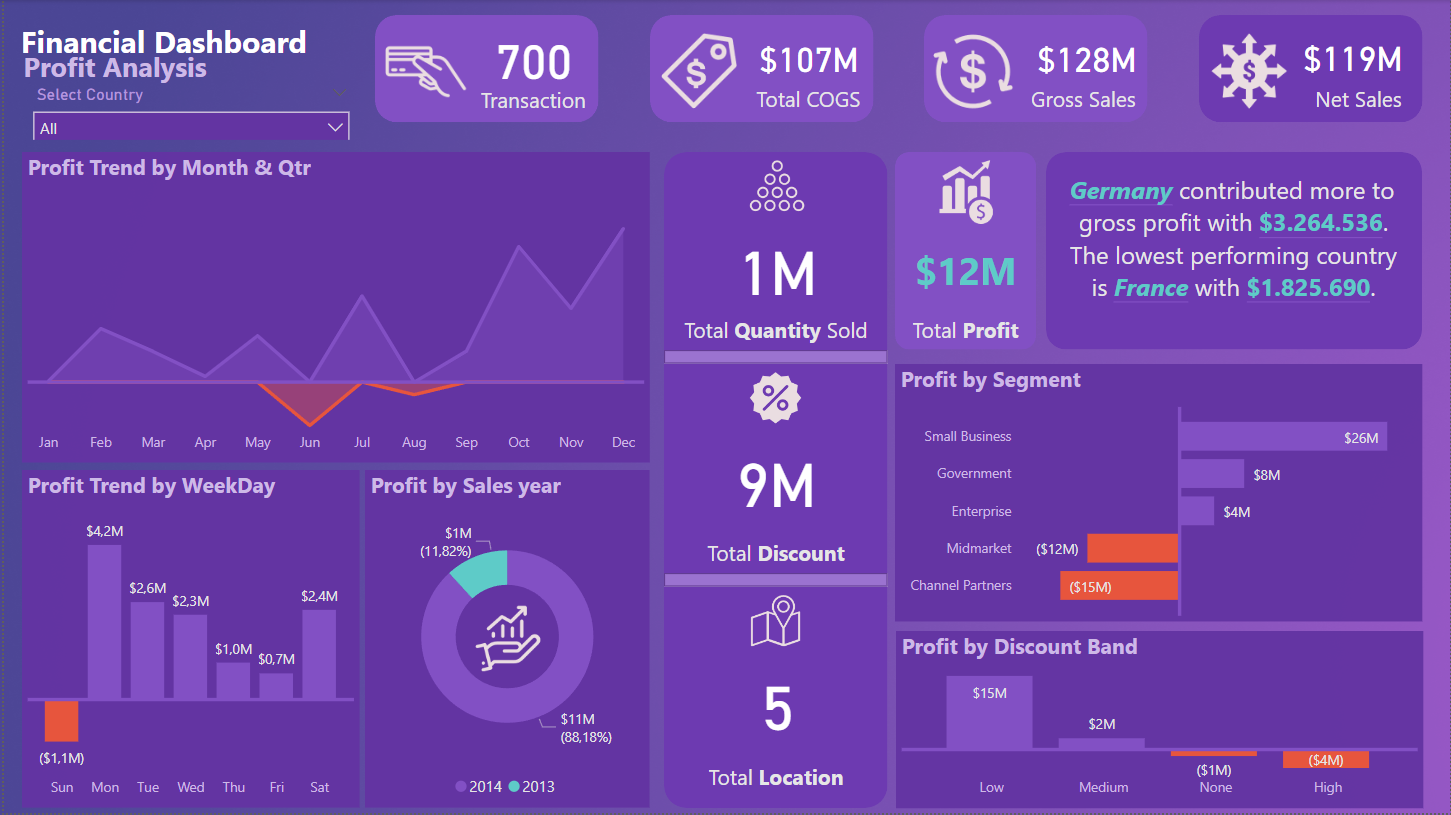

What the dashboard file says about the page in this screenshot:
{"tool":"powerbi","page":{"name":"Profit Analysis","canvas":[1280,720],"ordinal":0},"visuals":[{"type":"shape","box":[328.6,13.6,197.8,94.9],"z":0},{"type":"shape","box":[571.8,13.6,197.8,94.9],"z":1000},{"type":"shape","box":[815.1,13.6,197.8,94.9],"z":2000},{"type":"shape","box":[1058.3,13.6,197.8,94.9],"z":3000},{"type":"image","box":[571.8,21,87,83],"z":4000},{"type":"image","box":[1058.3,21.5,87.7,83],"z":5000},{"type":"image","box":[815.1,21.5,87,83],"z":6000},{"type":"image","box":[329.4,21.5,87.7,83],"z":7000},{"type":"card","fields":{"Values":["Key_Measures.# Transaction"]},"box":[370.8,23,196.2,55],"z":8000},{"type":"textbox","box":[411.5,71,114,37.5],"z":9000},{"type":"card","fields":{"Values":["Key_Measures.COGS"]},"box":[614.9,23.1,196.2,55.8],"z":10000},{"type":"textbox","box":[655.6,70.2,114,37.5],"z":11000},{"type":"card","fields":{"Values":["Key_Measures.Gross Sales"]},"box":[860.5,23.1,196,55.8],"z":12000},{"type":"textbox","box":[898.8,70,114,37.5],"z":13000},{"type":"card","fields":{"Values":["Key_Measures.Net Sales"]},"box":[1108.5,23,171.5,55],"z":14000},{"type":"textbox","box":[1142,70.2,114,37.5],"z":15000},{"type":"textbox","box":[0,13.6,283.1,47.9],"z":16000},{"type":"textbox","box":[0,37.2,196.6,46.9],"z":17000},{"type":"areaChart","title":"Profit Trend by Month & Qtr","fields":{"Category":["Calendar.Qtr","Calendar.Month"],"Y":["Key_Measures.Profit Negative","Key_Measures.Profit Positive"]},"box":[15.9,134.6,556.2,274.5],"z":18000},{"type":"columnChart","title":"Profit Trend by WeekDay","fields":{"Category":["Calendar.Weekday"],"Y":["Key_Measures.Total Profit"]},"box":[15.9,416.2,299.3,299],"z":19000},{"type":"donutChart","title":"Profit by Sales year","fields":{"Category":["Calendar.Year"],"Y":["Key_Measures.Total Profit"]},"box":[319.7,416.2,252.4,299.3],"z":20000},{"type":"shape","box":[584.5,134.6,198.4,581],"z":21000},{"type":"image","box":[641.2,134.6,86.8,60.2],"z":22000},{"type":"image","box":[640.3,322.4,85.9,60.2],"z":23000},{"type":"image","box":[640.3,519.9,85.9,60.2],"z":24000},{"type":"shape","box":[584.5,507.5,198.4,12],"z":25000},{"type":"shape","box":[584.5,310,198.4,12],"z":26000},{"type":"textbox","box":[584.5,274.5,198.4,35.4],"z":27000},{"type":"textbox","box":[584.5,670.4,198.4,35.4],"z":28000},{"type":"textbox","box":[584.5,472,198.4,35.4],"z":29000},{"type":"card","fields":{"Values":["Sum(financials.Units Sold)"]},"box":[586.3,194.8,196.6,79.7],"z":30000},{"type":"card","fields":{"Values":["Key_Measures.Total Discount"]},"box":[585.4,382.6,196.6,79.7],"z":31000},{"type":"card","fields":{"Values":["Count(financials.Country)"]},"box":[586.3,580.1,196.6,79.7],"z":32000},{"type":"shape","box":[789.1,134.6,124.9,175.4],"z":33000},{"type":"image","box":[789.1,134.6,124.9,70.8],"z":34000},{"type":"textbox","box":[789.1,274.5,124.9,35.4],"z":35000},{"type":"card","fields":{"Values":["Key_Measures.Total Profit"]},"box":[789.1,205.5,124.9,69.1],"z":36000},{"type":"shape","box":[922.8,134.6,333,175.4],"z":37000},{"type":"barChart","title":"Profit by Segment","fields":{"Category":["financials.Segment"],"Y":["Key_Measures.Total Profit"]},"box":[789.1,322.4,466.7,227.6],"z":38000},{"type":"columnChart","title":"Profit by Discount Band","fields":{"Category":["financials.Discount Band"],"Y":["Key_Measures.Total Profit"]},"box":[790,558.8,466.7,156.8],"z":39000},{"type":"slicer","fields":{"Values":["financials.Country"]},"box":[15.9,70.8,300.2,53.1],"z":40000},{"type":"image","box":[380.8,528.7,131.1,74.4],"z":41000},{"type":"textbox","box":[938.7,147.9,300.2,148.8],"z":42000}]}

Visuals, with their boxes in screenshot pixels (x1, y1, x2, y2), scaled from the page's 1280x720 canvas onto the 1451x815 screenshot:
shape: box(372, 15, 597, 123)
shape: box(648, 15, 872, 123)
shape: box(924, 15, 1148, 123)
shape: box(1200, 15, 1424, 123)
image: box(648, 24, 747, 118)
image: box(1200, 24, 1299, 118)
image: box(924, 24, 1023, 118)
image: box(373, 24, 473, 118)
card - Key_Measures.# Transaction: box(420, 26, 643, 88)
textbox: box(466, 80, 596, 123)
card - Key_Measures.COGS: box(697, 26, 919, 89)
textbox: box(743, 79, 872, 122)
card - Key_Measures.Gross Sales: box(975, 26, 1198, 89)
textbox: box(1019, 79, 1148, 122)
card - Key_Measures.Net Sales: box(1257, 26, 1450, 88)
textbox: box(1295, 79, 1424, 122)
textbox: box(0, 15, 321, 70)
textbox: box(0, 42, 223, 95)
"Profit Trend by Month & Qtr" areaChart: box(18, 152, 649, 463)
"Profit Trend by WeekDay" columnChart: box(18, 471, 357, 810)
"Profit by Sales year" donutChart: box(362, 471, 649, 810)
shape: box(663, 152, 887, 810)
image: box(727, 152, 825, 221)
image: box(726, 365, 823, 433)
image: box(726, 588, 823, 657)
shape: box(663, 574, 887, 588)
shape: box(663, 351, 887, 364)
textbox: box(663, 311, 887, 351)
textbox: box(663, 759, 887, 799)
textbox: box(663, 534, 887, 574)
card - Sum(financials.Units Sold): box(665, 221, 887, 311)
card - Key_Measures.Total Discount: box(664, 433, 886, 523)
card - Count(financials.Country): box(665, 657, 887, 747)
shape: box(895, 152, 1036, 351)
image: box(895, 152, 1036, 233)
textbox: box(895, 311, 1036, 351)
card - Key_Measures.Total Profit: box(895, 233, 1036, 311)
shape: box(1046, 152, 1424, 351)
"Profit by Segment" barChart: box(895, 365, 1424, 623)
"Profit by Discount Band" columnChart: box(896, 633, 1425, 810)
slicer - financials.Country: box(18, 80, 358, 140)
image: box(432, 598, 580, 683)
textbox: box(1064, 167, 1404, 336)
